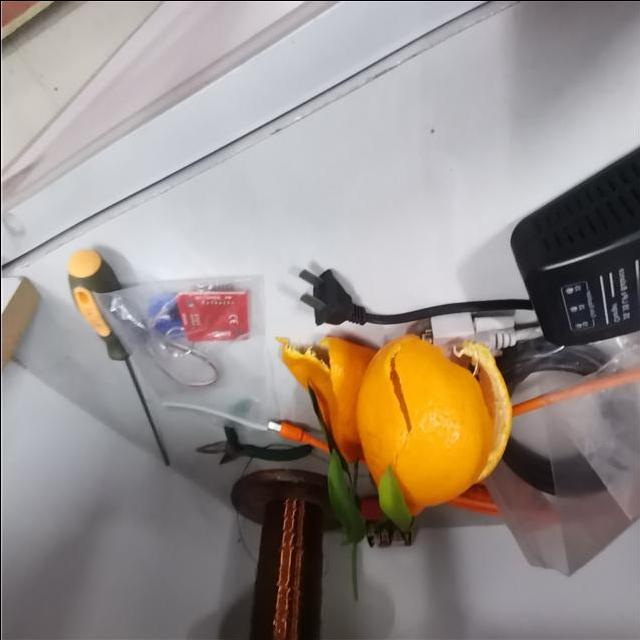orange peel: (352, 333, 508, 515), (277, 328, 370, 484)
